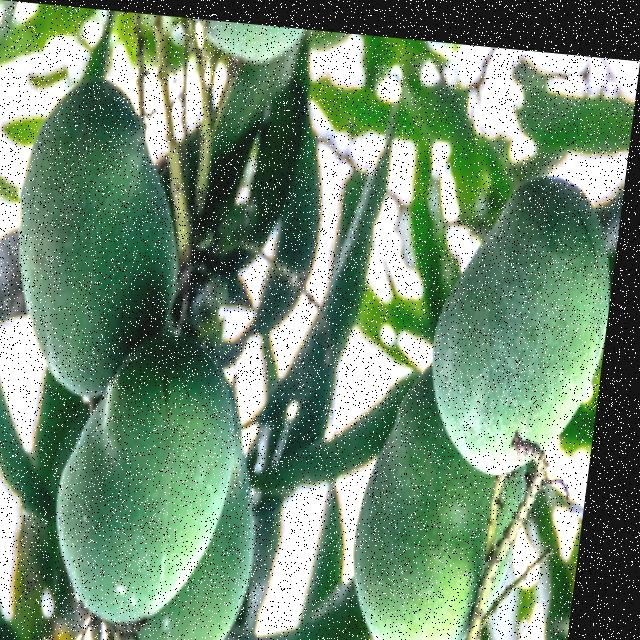raw-image: (433, 175, 622, 440), (17, 83, 175, 371), (64, 350, 236, 596)
